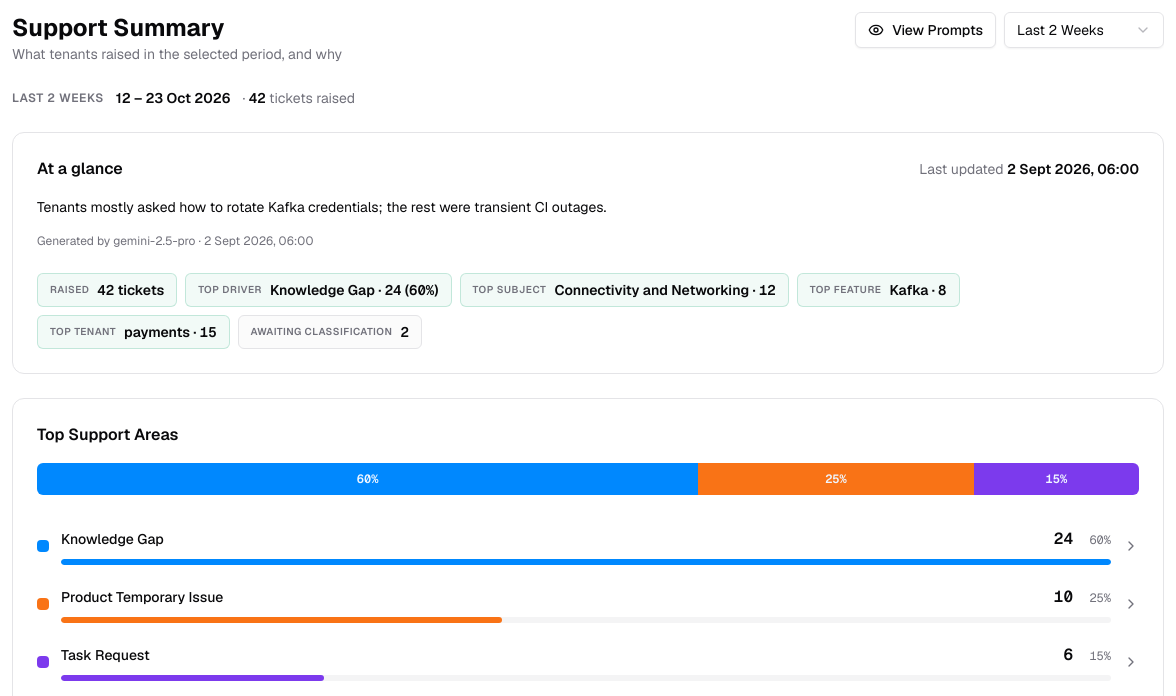
Scenario: SupportSummaryPage › Breakdown rows and tickets › expands and collapses a breakdown row to show its recent tickets
expect the text "Up to 5 most recent tickets" is not shown: met
Click the button "Knowledge Gap 24 60%": (112, 539) [29,519,1147,573]
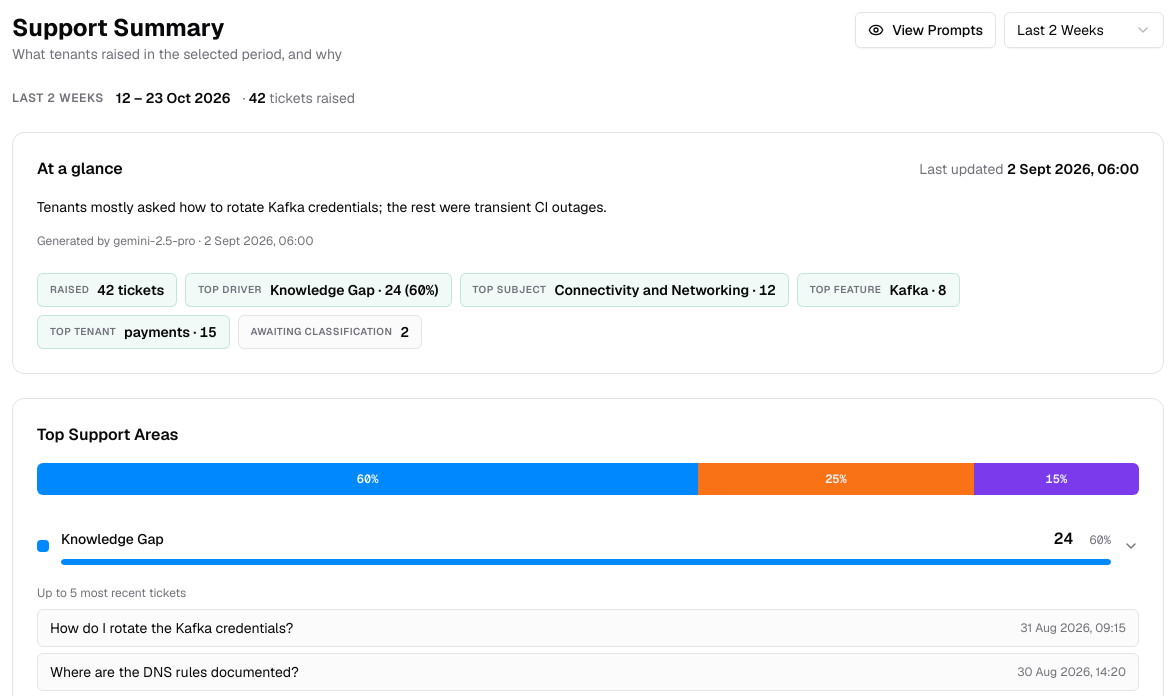
expect the button "Knowledge Gap 24 60%" is expanded: met
expect the text "Up to 5 most recent tickets" is shown: met, box [37,585,186,601]
expect the text "How do I rotate the Kafka credentials?" is shown: met, box [50,619,293,637]
Click the button "Knowledge Gap 24 60%": (112, 539) [29,519,1147,573]
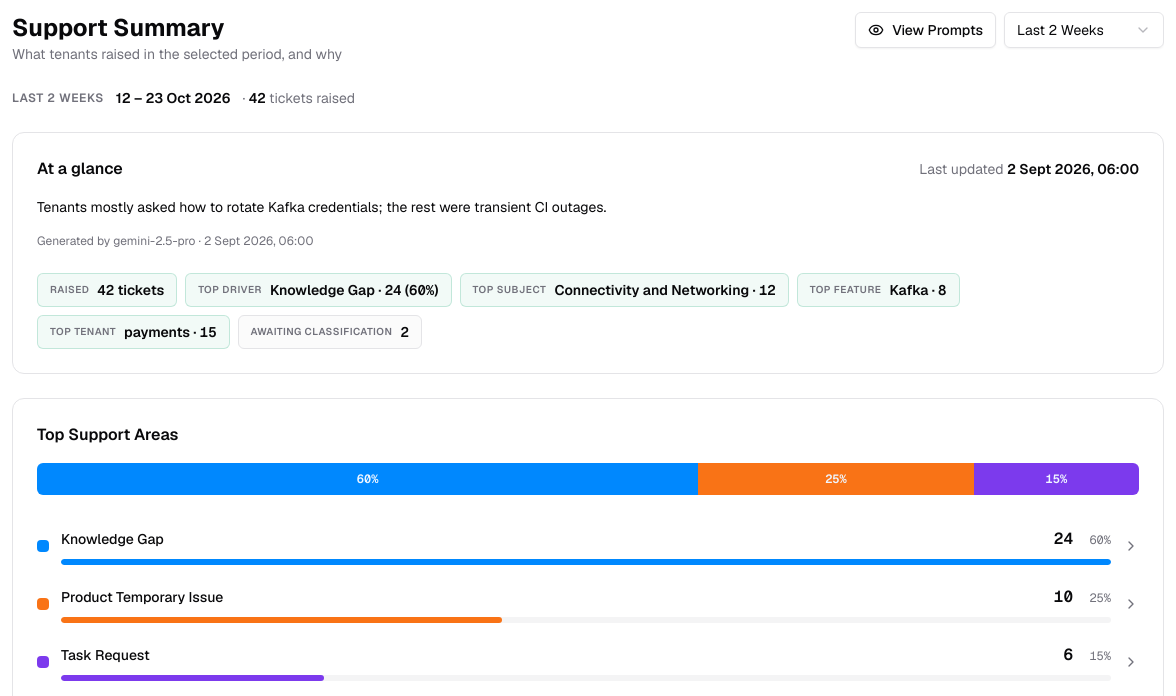
expect the button "Knowledge Gap 24 60%" is collapsed: met, box [29,519,1147,573]
expect the button "How do I rotate the Kafka credentials?" is gone: met
